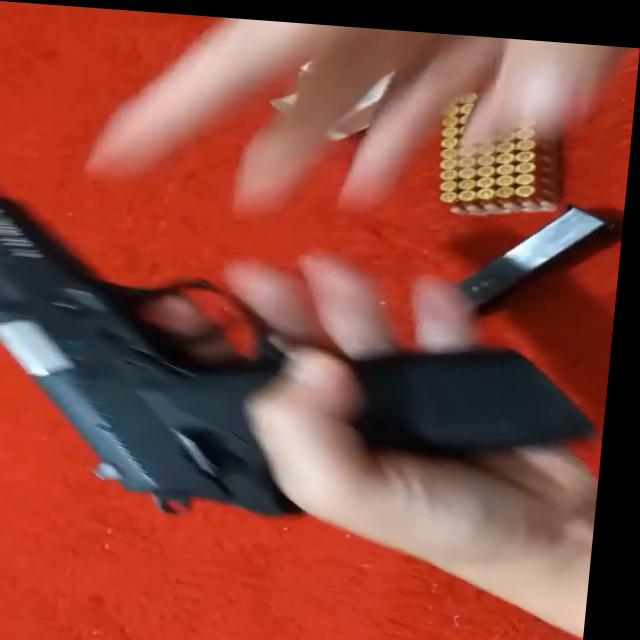handgun: (0, 184, 612, 543)
